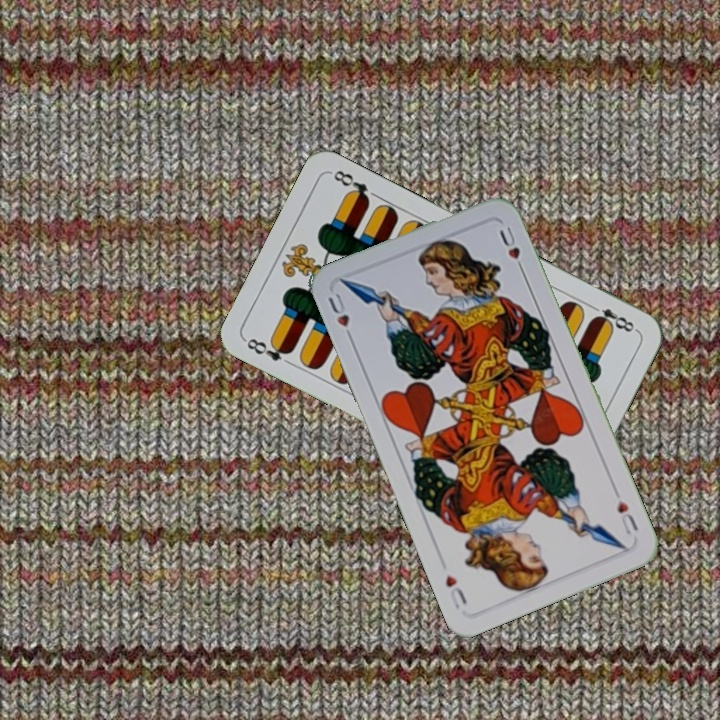E8: (585, 300, 640, 335), (241, 334, 296, 364)
HU: (323, 289, 356, 345), (613, 495, 641, 538)
